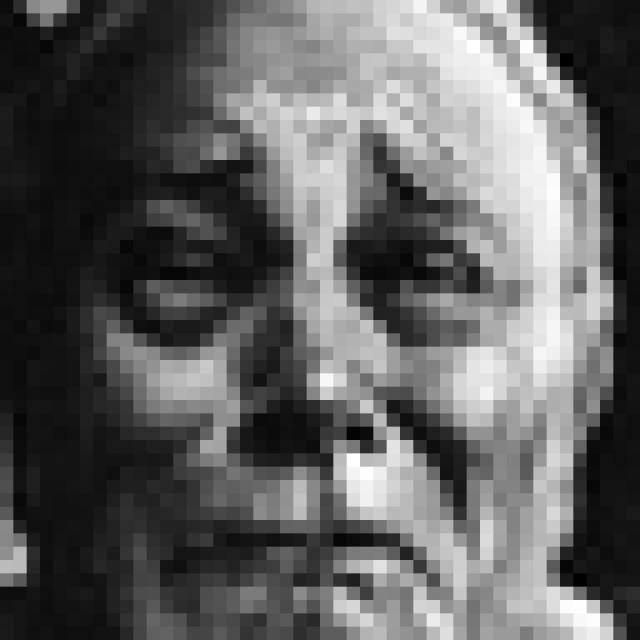sad: (90, 105, 541, 640)
